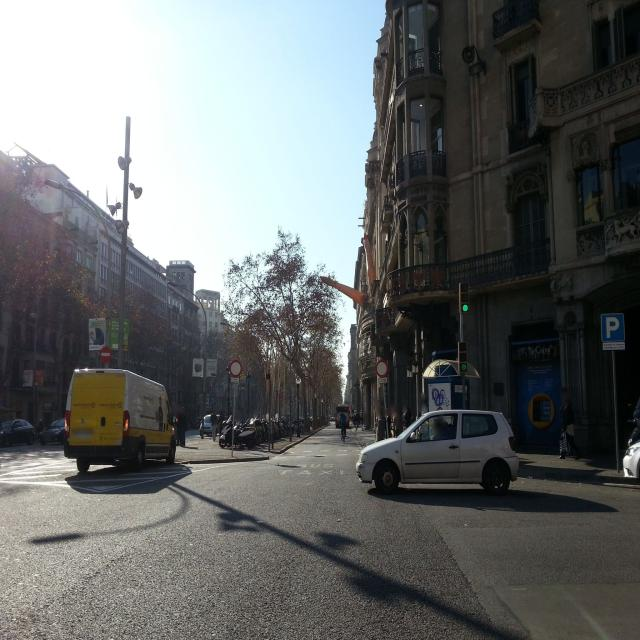bike: (339, 424, 348, 444)
car: (355, 408, 520, 496), (64, 367, 178, 472), (622, 415, 640, 492), (219, 418, 260, 448), (0, 418, 36, 448), (38, 418, 66, 445), (199, 413, 215, 439), (328, 414, 336, 425)
